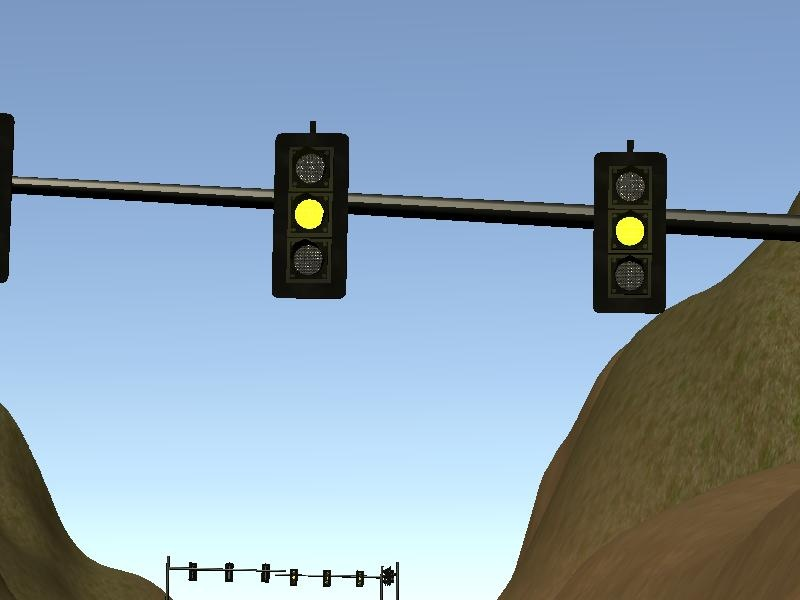yellow: (266, 121, 357, 313), (586, 138, 671, 318)
